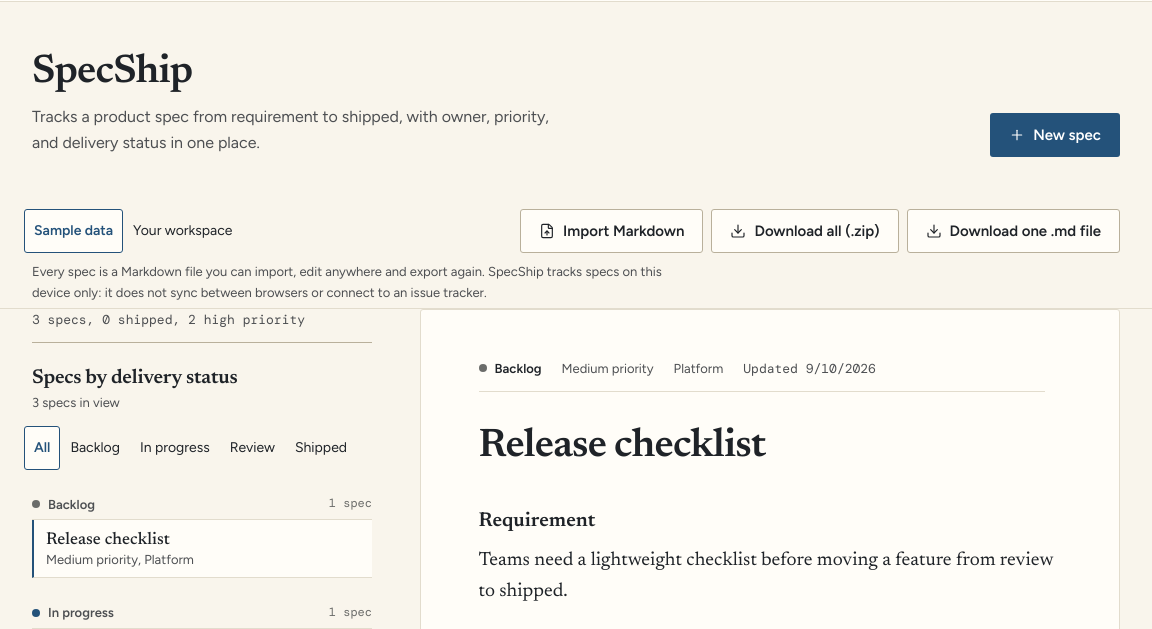
deleting a spec › asks first, keeps the spec on cancel, and moves focus to the list when it is deleted
Click the button "Release checklist Medium priority, Platform" at (108, 540), box [32,520,372,578]
(page scrolled)
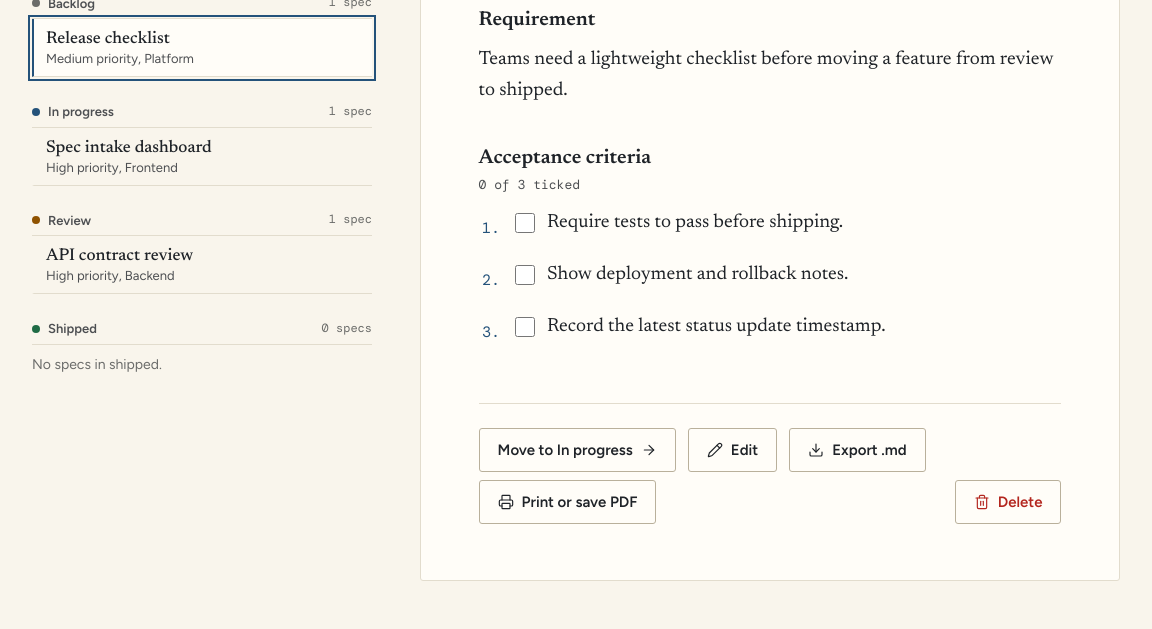
Click the button with aria-label "Delete Release checklist" at (1008, 502), box [955,480,1061,524]
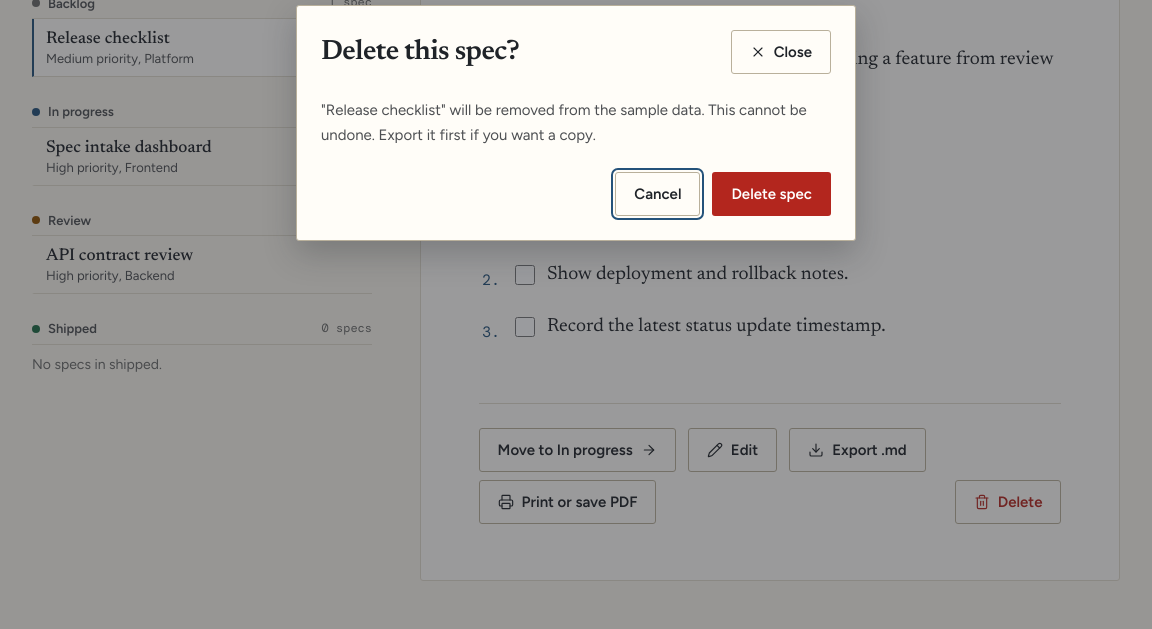
Expected: the dialog "Delete this spec?" shows "\"Release checklist\" will be removed from the sample data. This cannot be undone.", [296,5,856,240]
Click the button "Cancel" at (658, 194), box [615,172,700,216]
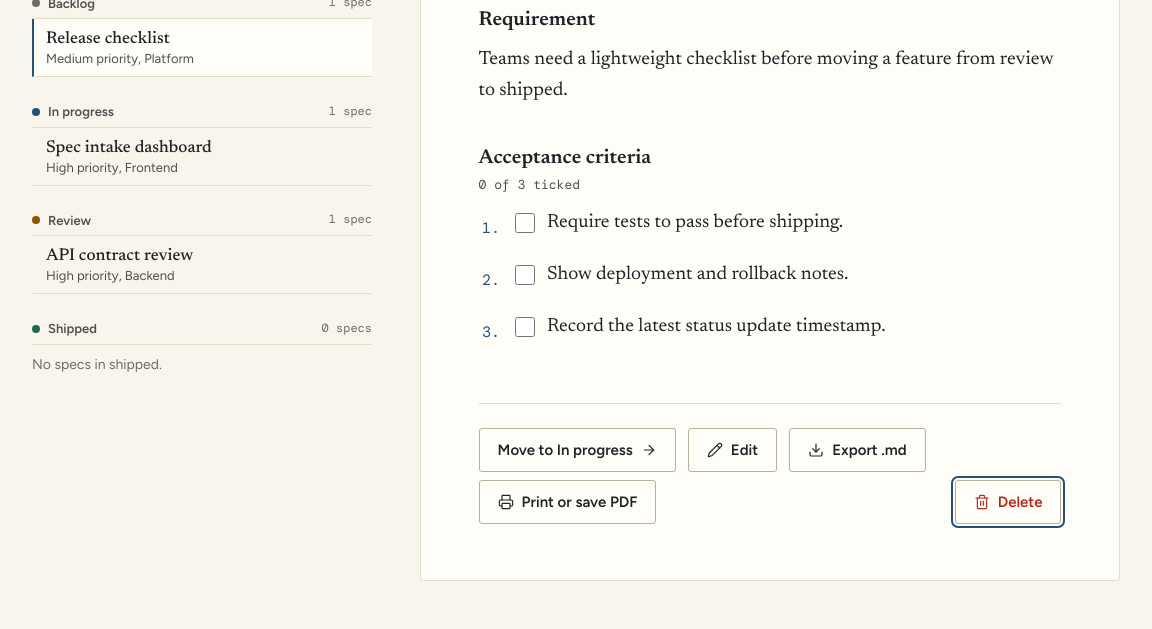
Expected: the button "Release checklist Medium priority, Platform" is shown, [32,19,372,77]
Expected: the dialog is gone
Click the button with aria-label "Delete Release checklist" at (1008, 502), box [955,480,1061,524]
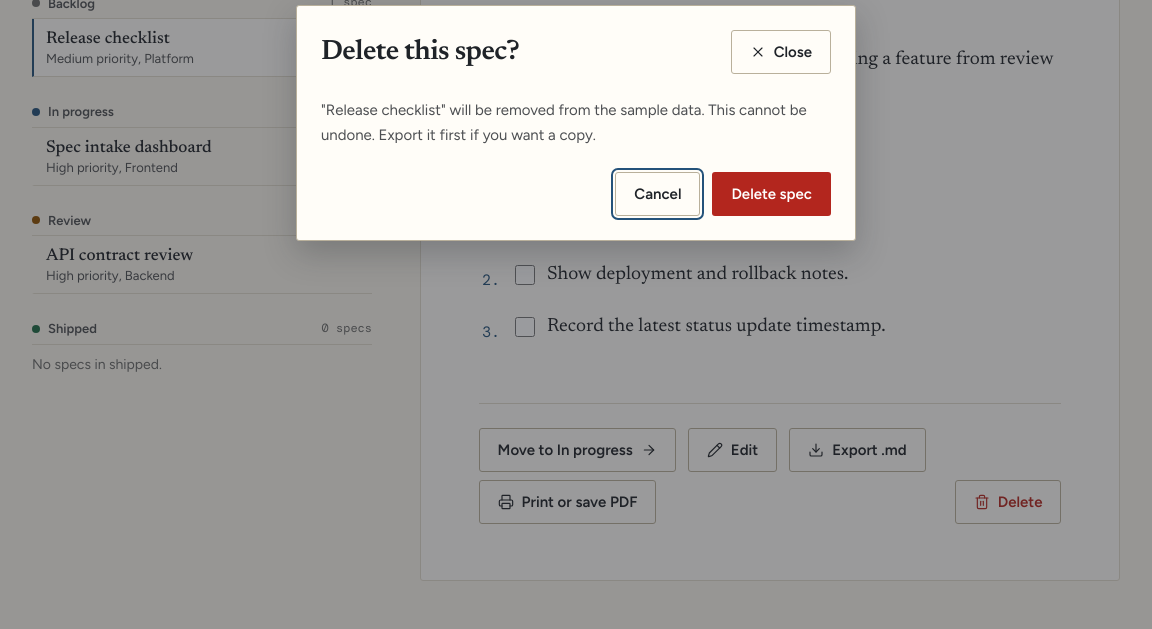
Click the button "Delete spec" at (772, 194), box [712,172,831,216]
(page scrolled)
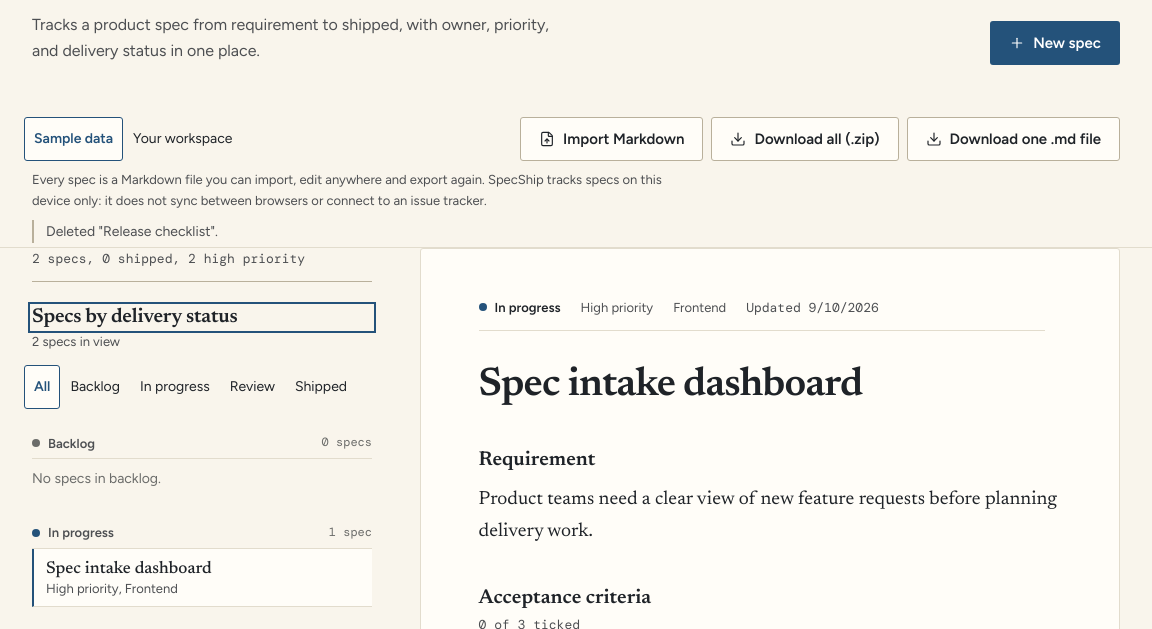
Expected: the text "Deleted \"Release checklist\"." is shown, [32,220,750,243]
